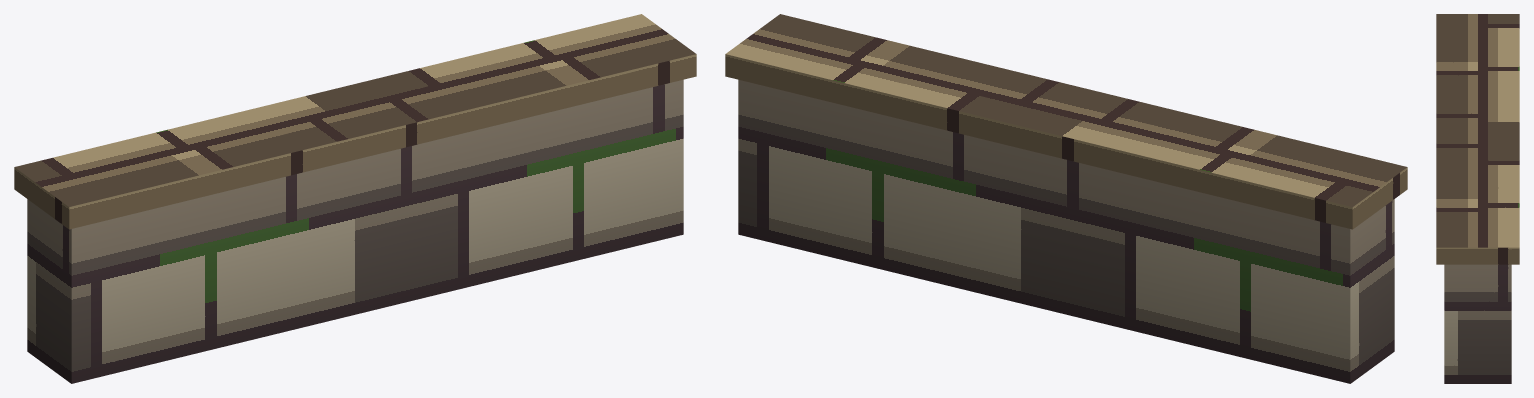
Rendered from retaining_wall_4.glb.
3 views of the same model, side by side, from view 1: azimuth 30°, elevation 25°; view 2: azimuth 150°, elevation 25°; view 3: azimuth 270°, elevation 25° (orthographic). The views are drawn at different scales.
Visible parts, largest first — view 1: retaining_wall_4; view 2: retaining_wall_4; view 3: retaining_wall_4.
Part boxes in pixels (bbox=[...]): retaining_wall_4: bbox=[14, 14, 696, 383]; retaining_wall_4: bbox=[725, 14, 1407, 383]; retaining_wall_4: bbox=[1436, 14, 1519, 383].
Size of the model in its own units: 4.1 by 1.14 by 0.62.
Materials: 1 (1 with a texture image).
